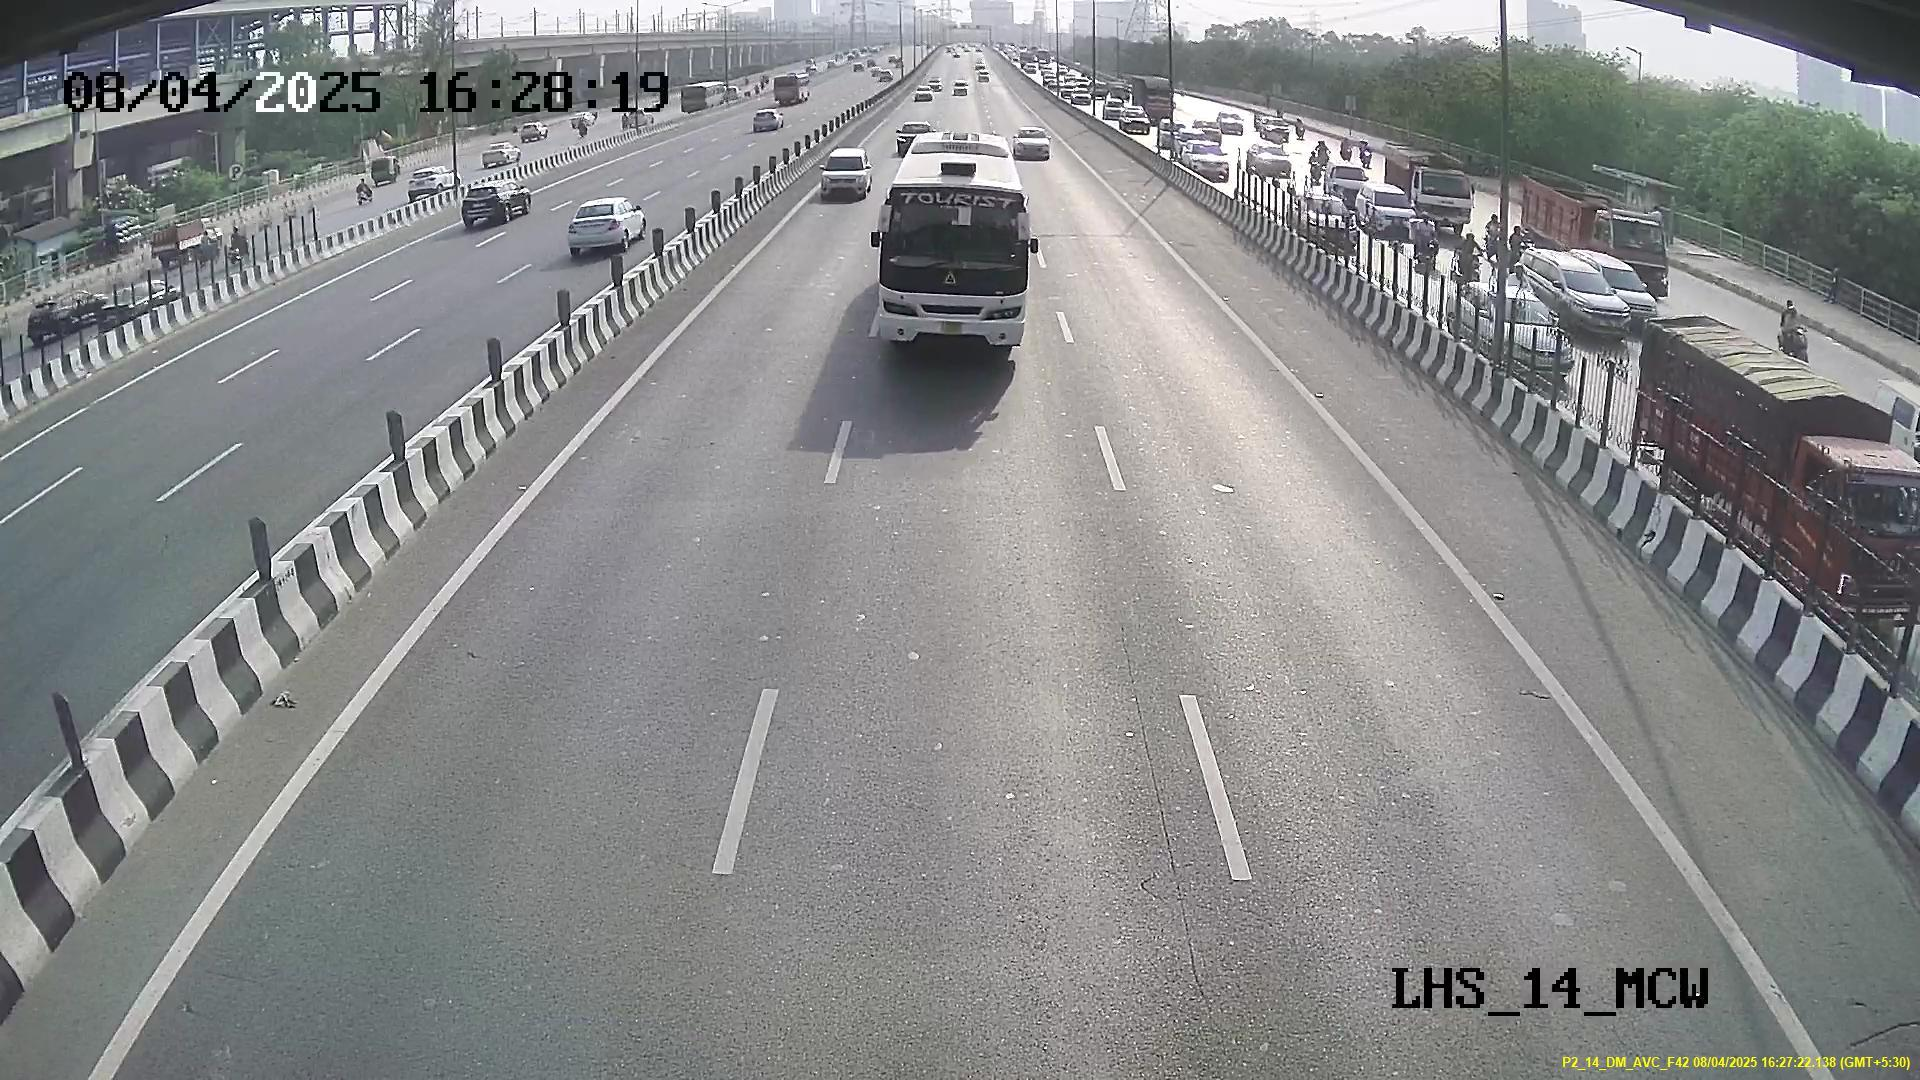bus: (860, 169, 1042, 361)
